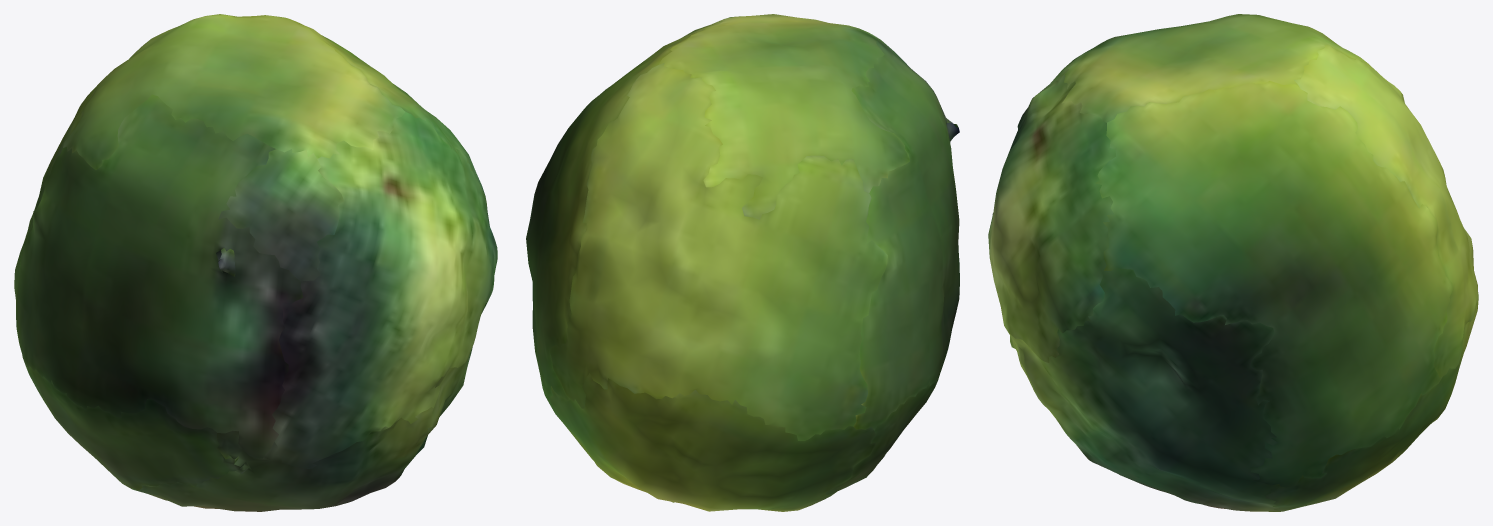
Rendered from 2_pear.glb.
3 renders of one model, left to right at view 1: azimuth 30°, elevation 25°; view 2: azimuth 150°, elevation 25°; view 3: azimuth 270°, elevation 25°, orthographic. The views are drawn at different scales.
Parts seen in each view (by area): view 1: 2_pear; view 2: 2_pear; view 3: 2_pear.
Part boxes in pixels (<box>): 2_pear: <box>14,14,497,511</box>; 2_pear: <box>526,14,959,511</box>; 2_pear: <box>988,14,1478,511</box>.
Size of the model in its own units: 0.1233 by 0.1362 by 0.1368.
Materials: 1 (1 with a texture image).
